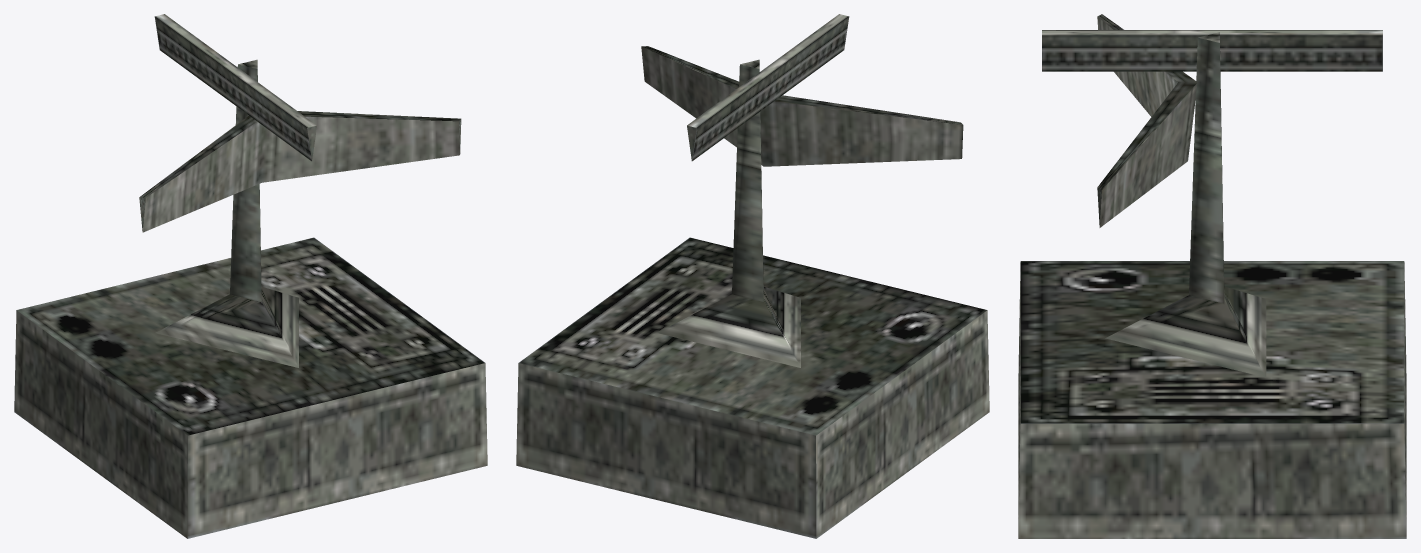
The model's file is eqp_survey_wind_l1.fbx.
3 views of the same model, side by side, from view 1: azimuth 30°, elevation 25°; view 2: azimuth 150°, elevation 25°; view 3: azimuth 270°, elevation 25° (orthographic). The views are drawn at different scales.
Parts seen in each view (by area): view 1: mesh_node; view 2: mesh_node; view 3: mesh_node.
Part boxes in pixels (x1,y1,x2,y2): mesh_node: (14, 14, 487, 538); mesh_node: (516, 14, 989, 538); mesh_node: (1018, 14, 1406, 538).
Bounding box in the file's own units: 0.3146 × 0.3496 × 0.2932.
